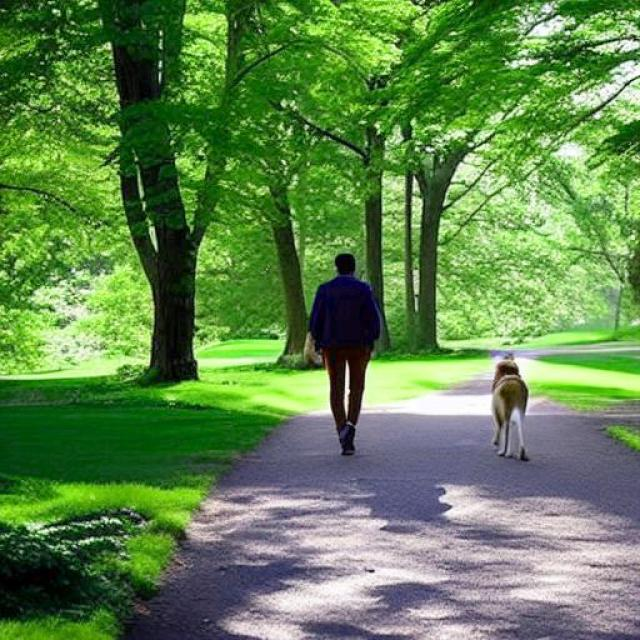Unleashed_Dog: (319, 330, 529, 460)
